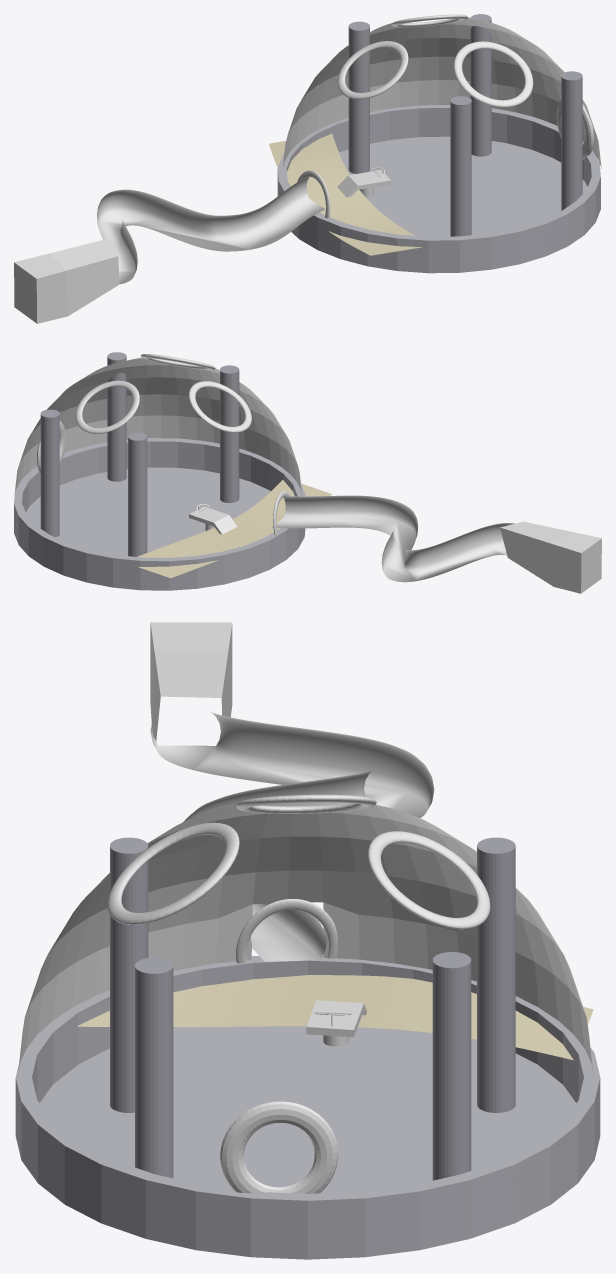
File: musicroom.glb
3 renders of one model, top to bottom at view 1: azimuth 30°, elevation 25°; view 2: azimuth 150°, elevation 25°; view 3: azimuth 270°, elevation 25°, orthographic. The views are drawn at different scales.
Parts seen in each view (by area): view 1: ArenaWall.001, Dome, ArenaFloor, Tunnel, spawn _room, Beach, Pillar_1.003, Pillar_1.002, Pillar_1, Pillar_1.001, Window 2, Window 1 (+3 smaller); view 2: ArenaWall.001, Dome, ArenaFloor, Tunnel, spawn _room, Beach, Pillar_1.003, Pillar_1.001, Pillar_1.002, Pillar_1, Window 3, Window 1 (+3 smaller); view 3: ArenaWall.001, Dome, ArenaFloor, Tunnel, Beach, Pillar_1.002, Pillar_1.001, Pillar_1, Pillar_1.003, spawn _room, Vortex_gate, Window 2 (+4 smaller).
Boxes of the visible parts, <box> form: ArenaWall.001: <box>277,105,600,273</box>; Dome: <box>282,17,601,168</box>; ArenaFloor: <box>339,136,587,236</box>; Tunnel: <box>97,177,325,284</box>; spawn _room: <box>14,238,119,323</box>; Beach: <box>269,134,421,255</box>; Pillar_1.003: <box>450,96,471,236</box>; Pillar_1.002: <box>348,21,369,173</box>; Pillar_1: <box>561,71,582,210</box>; Pillar_1.001: <box>470,14,491,156</box>; Window 2: <box>454,41,533,107</box>; Window 1: <box>337,41,408,99</box>; ArenaWall.001: <box>14,438,305,590</box>; Dome: <box>15,357,302,495</box>; ArenaFloor: <box>26,467,270,555</box>; Tunnel: <box>272,495,514,582</box>; spawn _room: <box>500,521,601,593</box>; Beach: <box>137,480,331,578</box>; Pillar_1.003: <box>220,365,239,502</box>; Pillar_1.001: <box>40,409,59,537</box>; Pillar_1.002: <box>128,432,147,556</box>; Pillar_1: <box>107,352,126,481</box>; Window 3: <box>75,380,139,433</box>; Window 1: <box>189,381,251,432</box>; ArenaWall.001: <box>15,954,600,1259</box>; Dome: <box>17,804,593,1076</box>; ArenaFloor: <box>39,1026,576,1193</box>; Tunnel: <box>150,712,434,961</box>; Beach: <box>77,975,593,1060</box>; Pillar_1.002: <box>477,837,515,1112</box>; Pillar_1.001: <box>432,952,471,1180</box>; Pillar_1: <box>135,957,173,1178</box>; Pillar_1.003: <box>110,837,148,1112</box>; spawn _room: <box>150,622,232,742</box>; Vortex_gate: <box>220,1101,338,1193</box>; Window 2: <box>107,822,239,924</box>.
Bounding box in the file's own units: 76.2 × 22.09 × 36.42.
